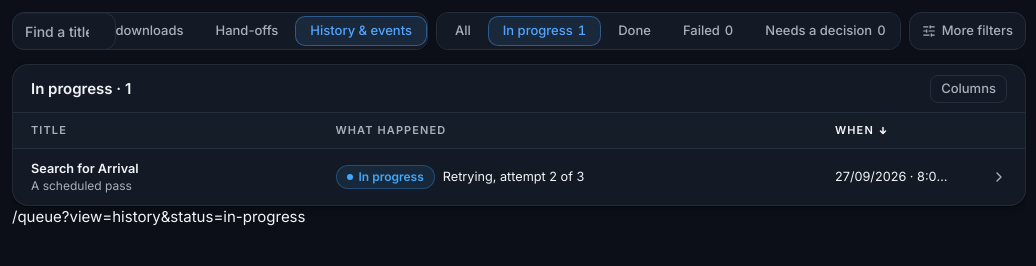
it: Activity's open items (#1329) › a job that will try again reads 'Retrying, attempt 2 of 3' under In progress and is not under Failed
Expected: the text "Retrying, attempt 2 of 3" is shown, [443,169,584,185]
Click the radio button labelled "Failed 0" at (708, 31), box [668,16,748,46]
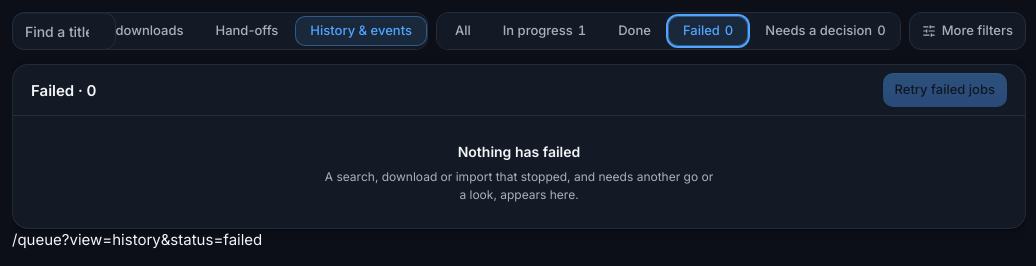
Expected: the text "Search for Arrival" is gone
